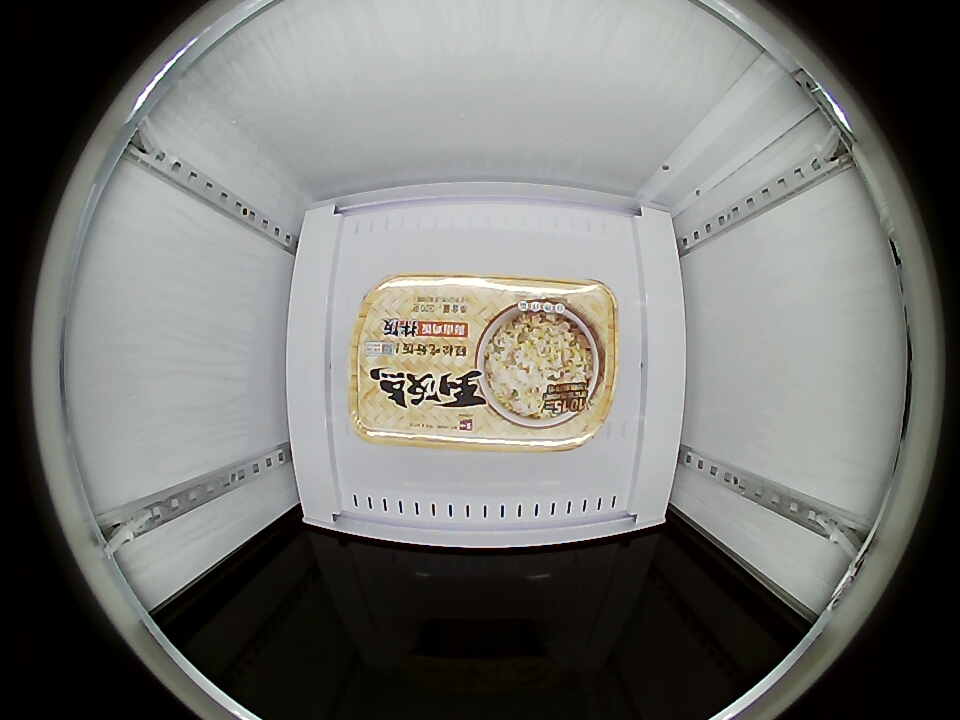daofandian1: (347, 273, 622, 452)
